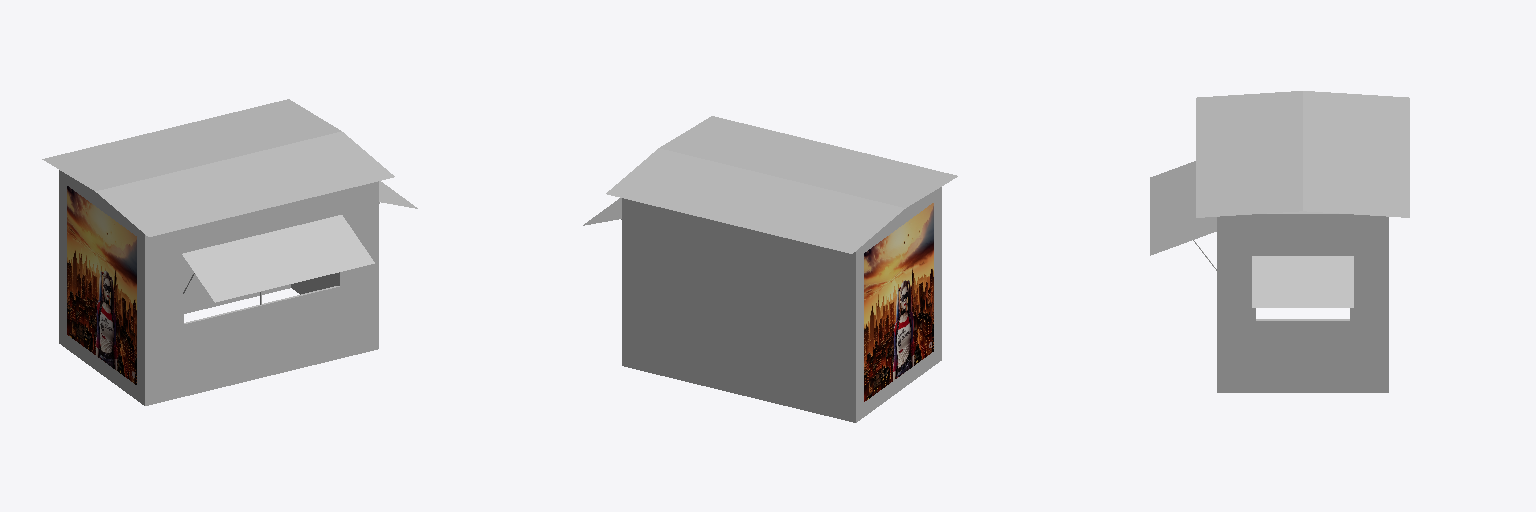
3 renders of one model, left to right at view 1: azimuth 30°, elevation 25°; view 2: azimuth 150°, elevation 25°; view 3: azimuth 270°, elevation 25°, orthographic.
Parts seen in each view (by area): view 1: Puesto_Comida.010; view 2: Puesto_Comida.010; view 3: Puesto_Comida.010.
Boxes of the visible parts, <box> form: Puesto_Comida.010: <box>42,99,417,405</box>; Puesto_Comida.010: <box>583,116,957,422</box>; Puesto_Comida.010: <box>1150,91,1409,392</box>.
Bounding box in the file's own units: 4.22 × 2.5 × 3.18.
Materials: 3 (1 with a texture image).